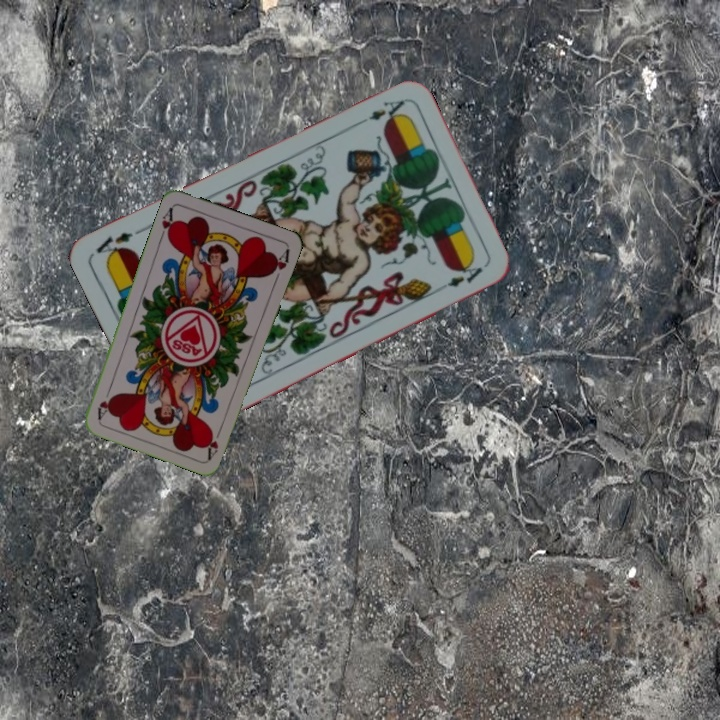EA: (365, 95, 409, 126)
HA: (156, 203, 178, 243), (203, 422, 225, 461)
